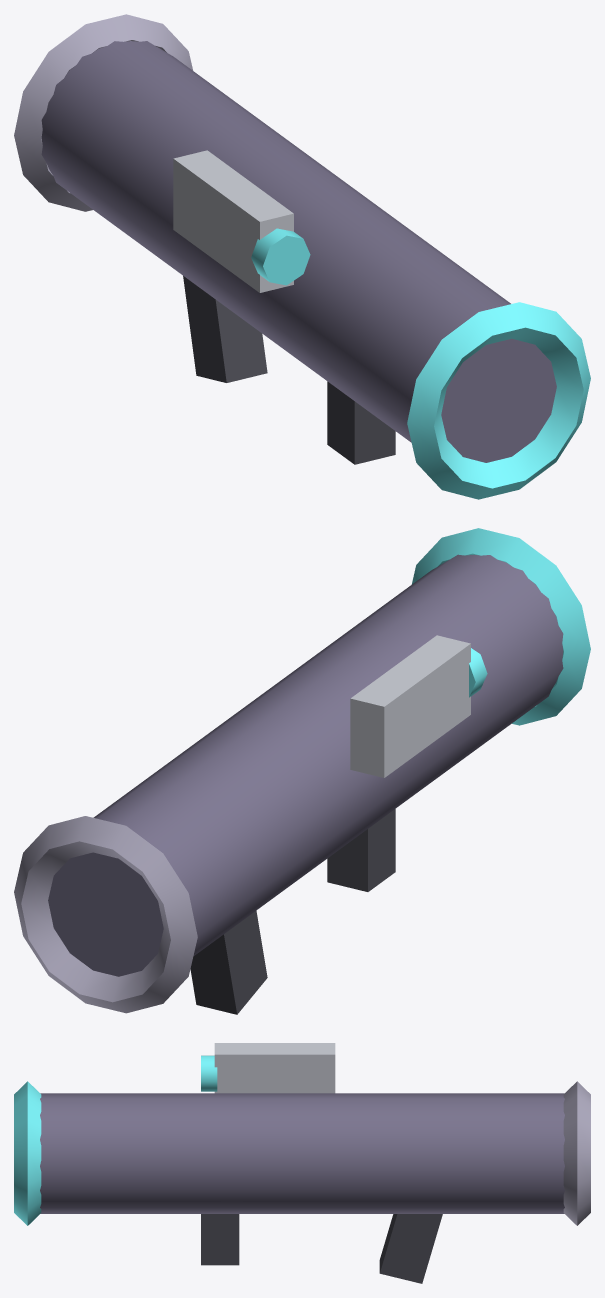
File: sh_launcher.glb
3 renders of one model, top to bottom at view 1: azimuth 30°, elevation 25°; view 2: azimuth 150°, elevation 25°; view 3: azimuth 270°, elevation 25°, orthographic. The views are drawn at different scales.
Visible parts, largest first — view 1: sh_launcher; view 2: sh_launcher; view 3: sh_launcher.
Part boxes in pixels (bbox=[...]): sh_launcher: bbox=[14, 14, 590, 499]; sh_launcher: bbox=[14, 528, 590, 1014]; sh_launcher: bbox=[14, 1043, 590, 1283].
Bounding box in the file's own units: 0.3 × 0.3976 × 1.05.
